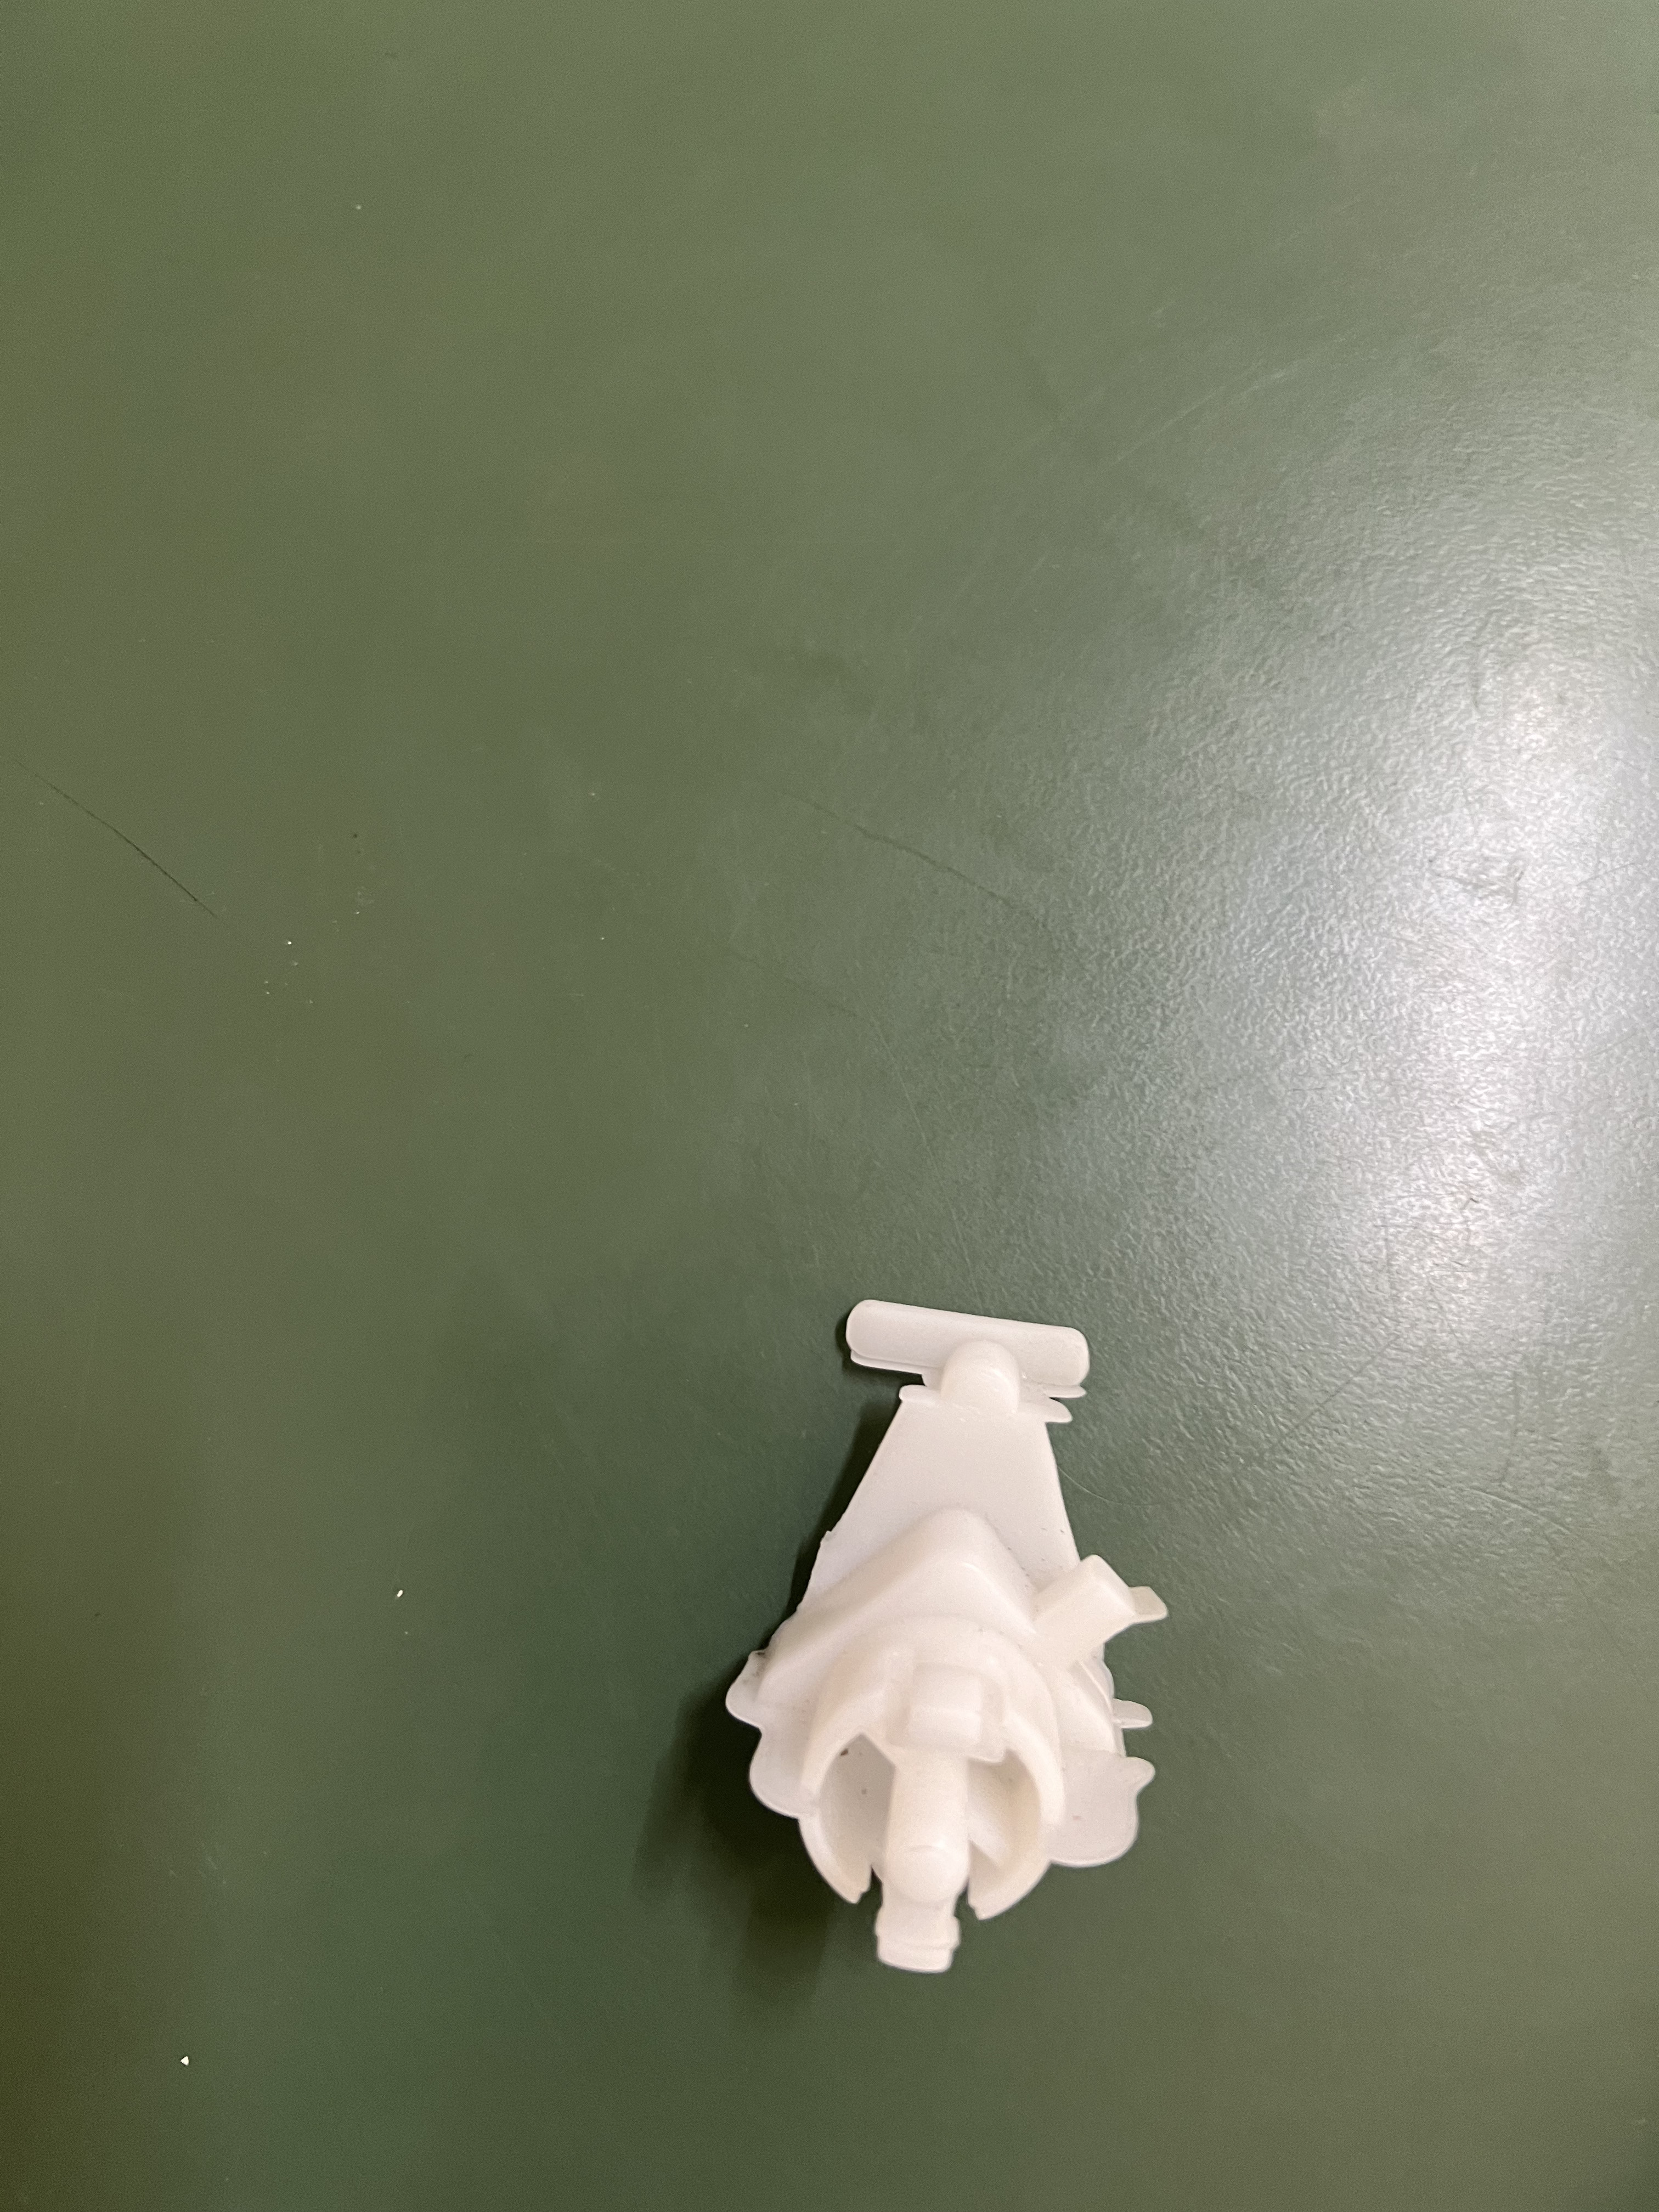drain_lever: (713, 1282, 1188, 1980)
